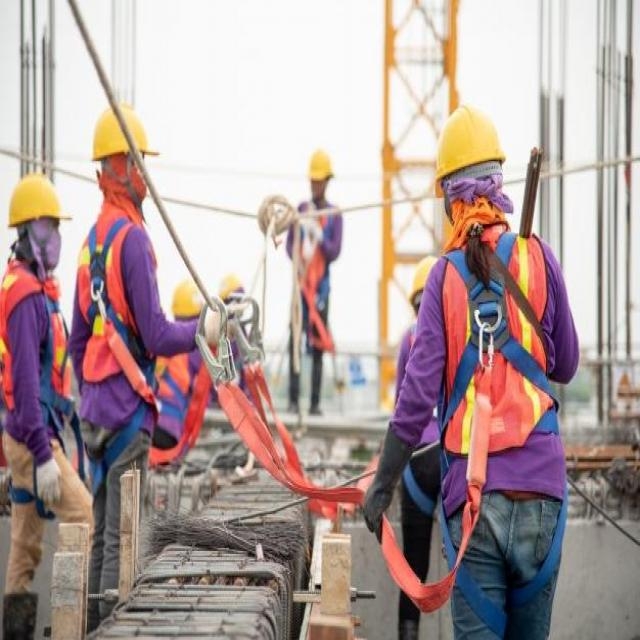Reflective-Jacket: (434, 233, 557, 462), (74, 204, 158, 396), (0, 262, 72, 414)
Safety-Helmet: (431, 96, 509, 188), (85, 96, 163, 170), (4, 166, 72, 232), (302, 141, 338, 189), (170, 272, 203, 322)
